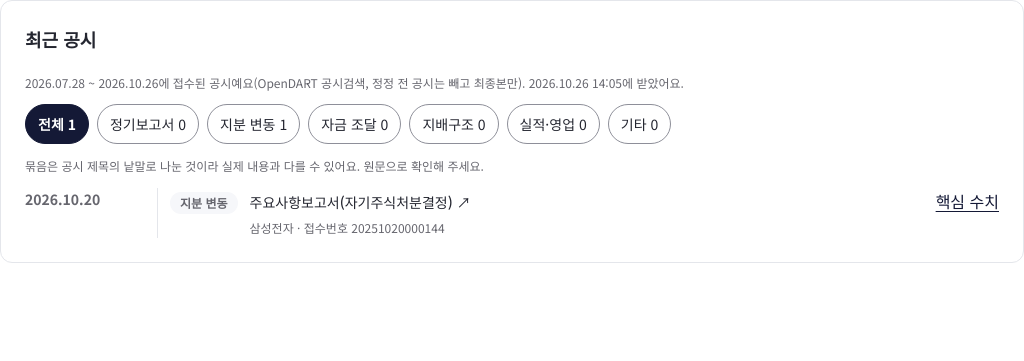
it: 핵심 수치 › 자료가 없으면 자료 없음과 원문 링크를 보여 준다
Click the button "핵심 수치": (967, 202) [936,188,999,215]
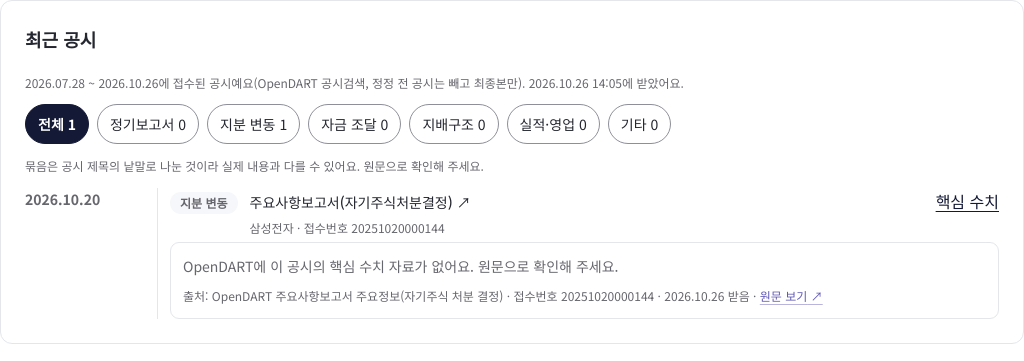
Expected: the text "OpenDART에 이 공시의 핵심 수치 자료가 없어요. 원문으로 확인해 주세요." is shown, [183,256,618,276]
Expected: the link "원문 보기 ↗" is shown, [760,287,823,304]
